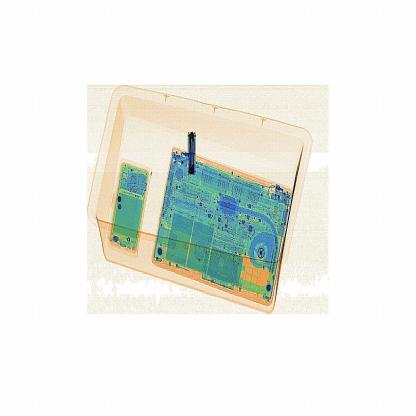scissors: (182, 124, 208, 182)
